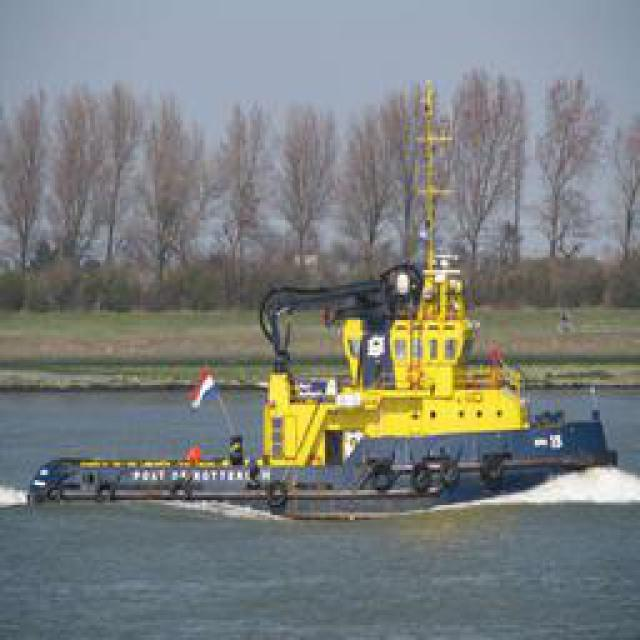Ship: (19, 132, 635, 519)
